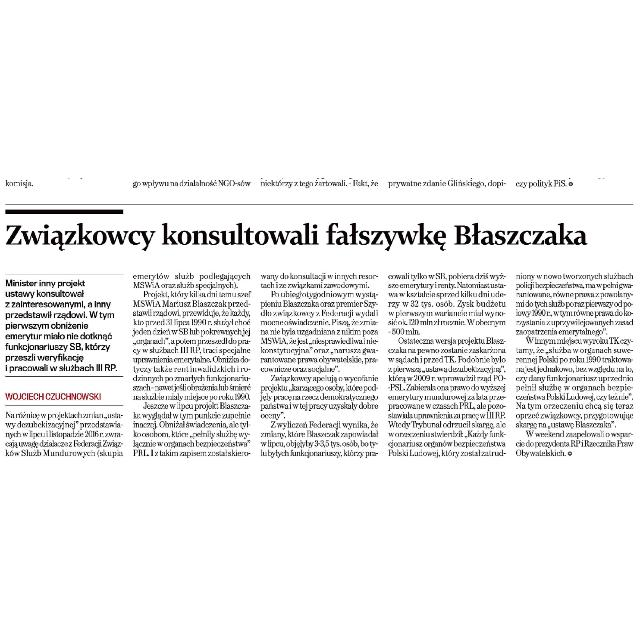author: (4, 388, 104, 404)
body: (512, 268, 638, 460), (130, 270, 254, 460), (257, 270, 381, 460), (386, 270, 508, 460), (2, 408, 126, 460)
lead: (2, 276, 122, 376)
title: (3, 218, 593, 256)
